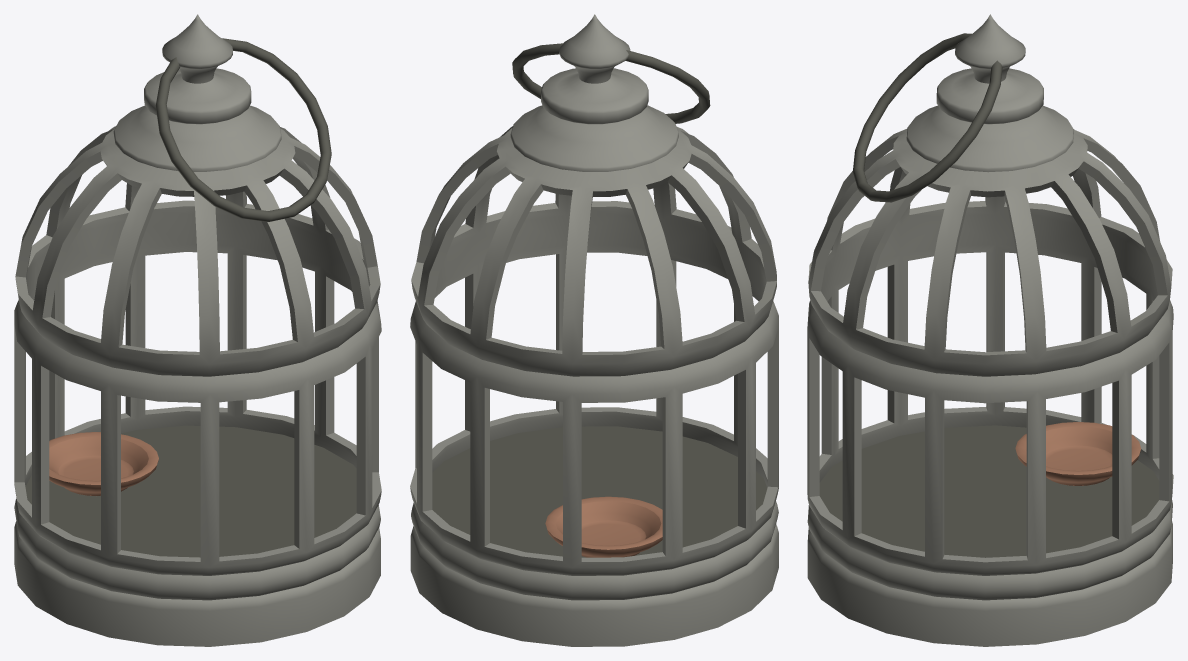
File: OT_201_animal_cage.glb
The picture shows the model from 3 angles, left to right: view 1: azimuth 30°, elevation 25°; view 2: azimuth 150°, elevation 25°; view 3: azimuth 270°, elevation 25°; orthographic projection.
Parts seen in each view (by area): view 1: animal_cage; view 2: animal_cage; view 3: animal_cage.
Part boxes in pixels (x1,y1,x2,y2): animal_cage: (14,14,381,646); animal_cage: (410,14,778,646); animal_cage: (807,14,1173,646).
Size of the model in its own units: 0.7511 by 1.25 by 0.7473.
